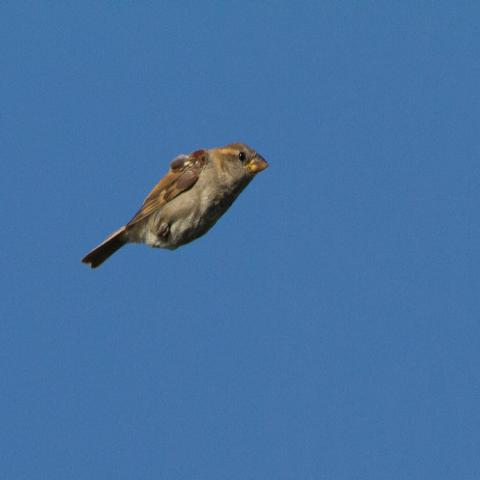bird: (80, 139, 270, 271)
